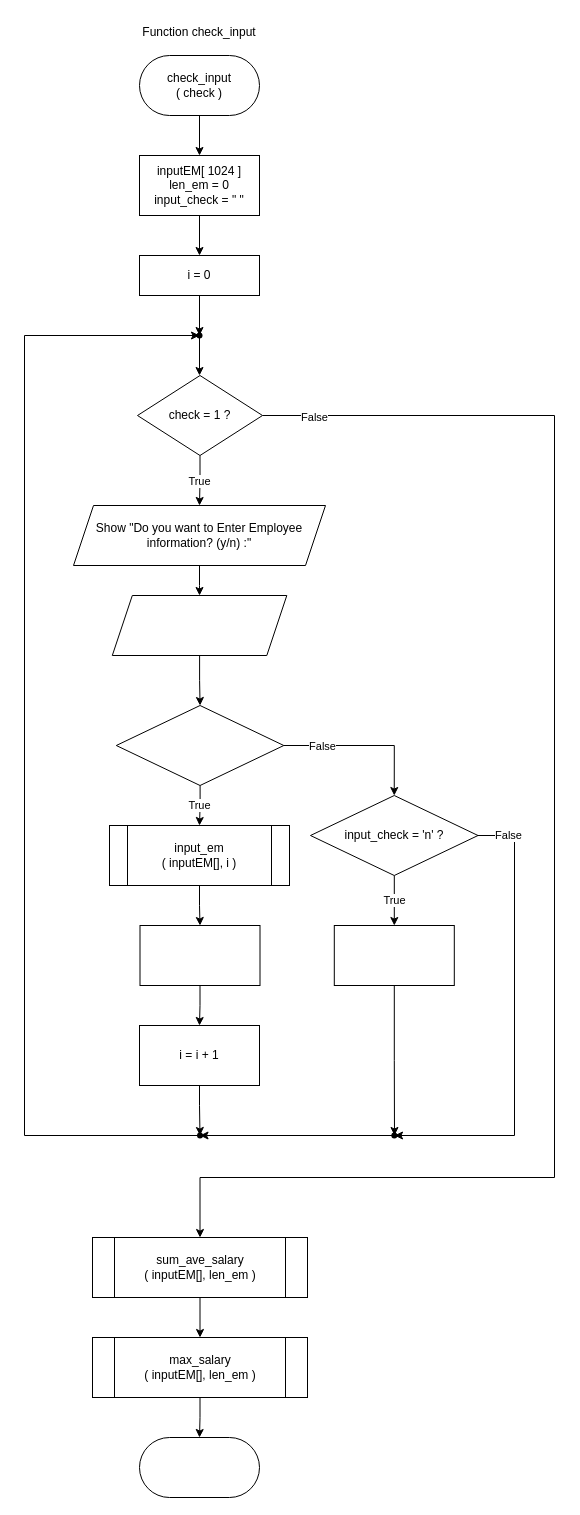
Image size: 580x1515. Some labels were removed from this diagram. The shapes that lost their labels are listed below. From the top down, each one's box as (x1, y1, x2, y2) in pixels, then its label:
(111, 594, 287, 656): input "input_check"
(115, 704, 284, 786): input_check = 'y' ?
(139, 924, 260, 986): len_em = i
(333, 924, 454, 986): check = 0
(138, 1436, 260, 1498): Stop
